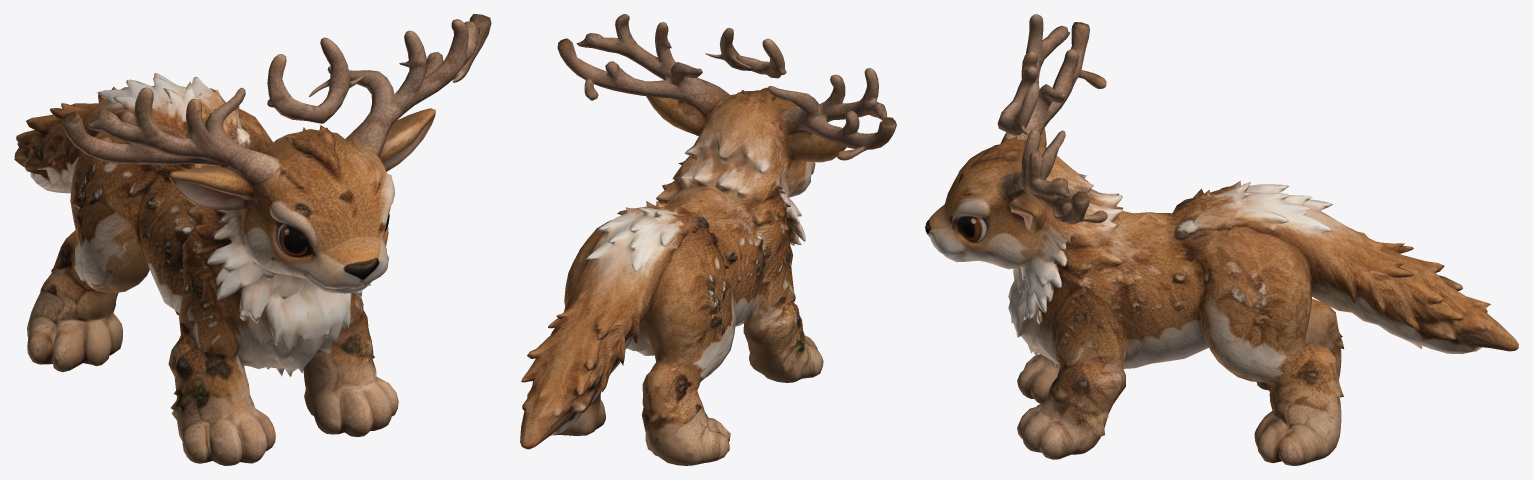
File: sylvorn.glb
3 views of the same model, side by side, from view 1: azimuth 30°, elevation 25°; view 2: azimuth 150°, elevation 25°; view 3: azimuth 270°, elevation 25° (orthographic). The views are drawn at different scales.
Visible parts, largest first — view 1: tripo_70878eab_099d_4386_90ee_9c3db78e3484; view 2: tripo_70878eab_099d_4386_90ee_9c3db78e3484; view 3: tripo_70878eab_099d_4386_90ee_9c3db78e3484.
Part boxes in pixels (bbox=[...]): tripo_70878eab_099d_4386_90ee_9c3db78e3484: bbox=[14, 14, 491, 465]; tripo_70878eab_099d_4386_90ee_9c3db78e3484: bbox=[520, 14, 896, 465]; tripo_70878eab_099d_4386_90ee_9c3db78e3484: bbox=[925, 14, 1518, 465].
Bounding box in the file's own units: 0.7114 × 0.644 × 0.9995.
Materials: 1 (1 with a texture image).
